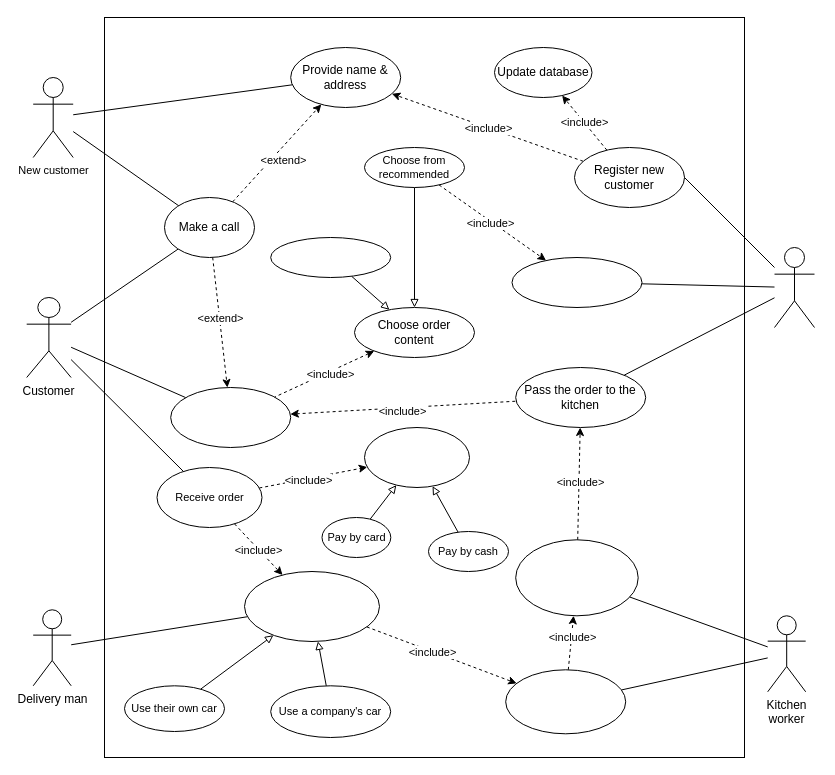
The diagram is 835 pixels wide and 775 high, and some of its shapes have lost their labels. Each missing label, with the centre of its shape:
"Choose by themselves" belongs at [330,257].
"Cook the order" belongs at [576,577].
"Deliver order" belongs at [312,606].
"Give recommendations" belongs at [576,282].
"Make an order" belongs at [230,417].
"Make payment" belongs at [417,457].
"Operator" belongs at [794,287].
"Pass the order to a delivery man" belongs at [565,701].
